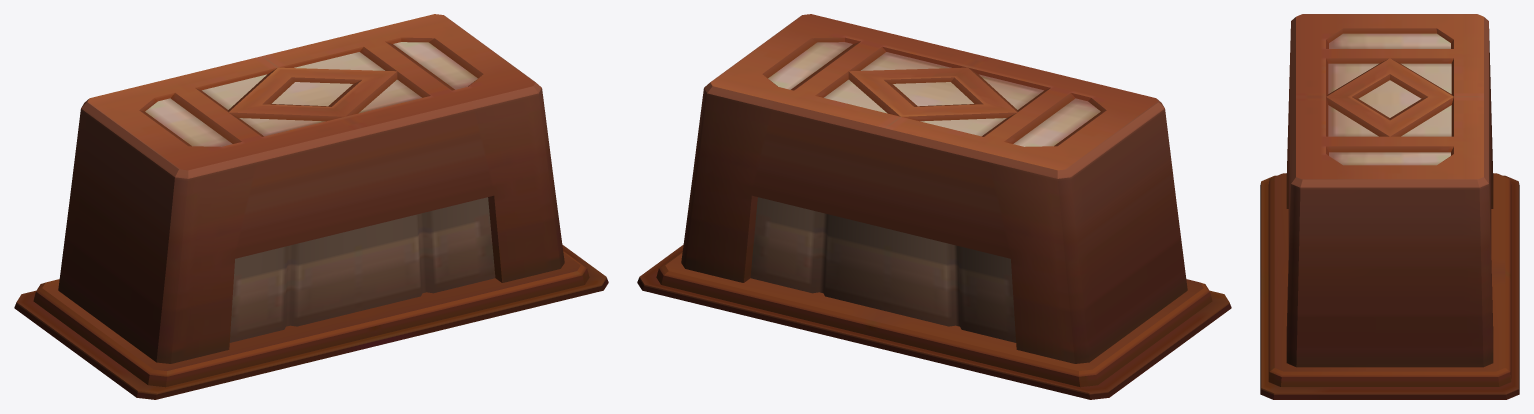
The model's file is [gimmick]battlegate.fbx.
The picture shows the model from 3 angles, left to right: view 1: azimuth 30°, elevation 25°; view 2: azimuth 150°, elevation 25°; view 3: azimuth 270°, elevation 25°; orthographic projection. The views are drawn at different scales.
Visible parts, largest first — view 1: battlegate, battlegate_base; view 2: battlegate, battlegate_base; view 3: battlegate, battlegate_base.
Boxes of the visible parts, bbox=[...] form: battlegate: bbox=[33, 14, 589, 387]; battlegate_base: bbox=[14, 244, 608, 399]; battlegate: bbox=[656, 14, 1212, 387]; battlegate_base: bbox=[637, 244, 1231, 399]; battlegate: bbox=[1268, 14, 1511, 386]; battlegate_base: bbox=[1260, 175, 1519, 399].
Bounding box in the file's own units: 2.01 × 0.8283 × 1.01.
1 material, 1 textured.
